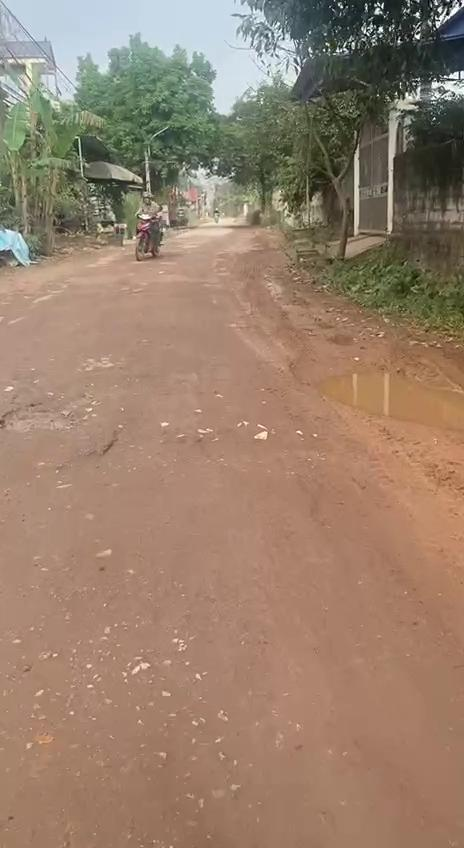pothole: (314, 364, 464, 432), (0, 390, 101, 436)
